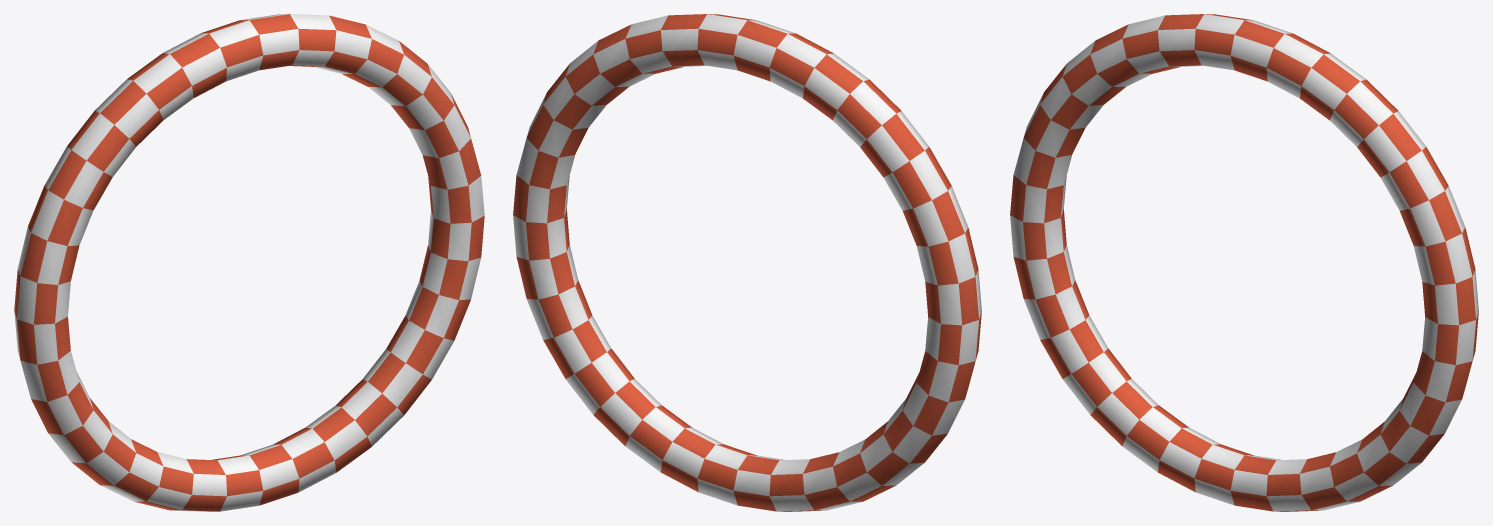
The model's file is checkpoint.glb.
3 renders of one model, left to right at view 1: azimuth 30°, elevation 25°; view 2: azimuth 150°, elevation 25°; view 3: azimuth 330°, elevation 25°, orthographic.
Visible parts, largest first — view 1: Torus.001; view 2: Torus.001; view 3: Torus.001.
Boxes of the visible parts, x1,y1,x2,y2 form: Torus.001: (14, 14, 484, 511); Torus.001: (513, 14, 981, 511); Torus.001: (1010, 14, 1478, 511).
Size of the model in its own units: 35.19 by 35.19 by 3.75.
1 material, 1 textured.
